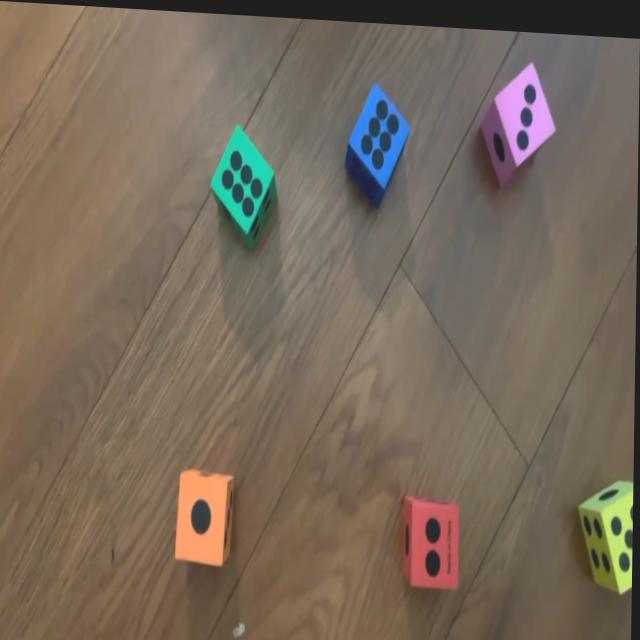blue_block: (343, 78, 413, 207)
red_block: (403, 489, 462, 582)
